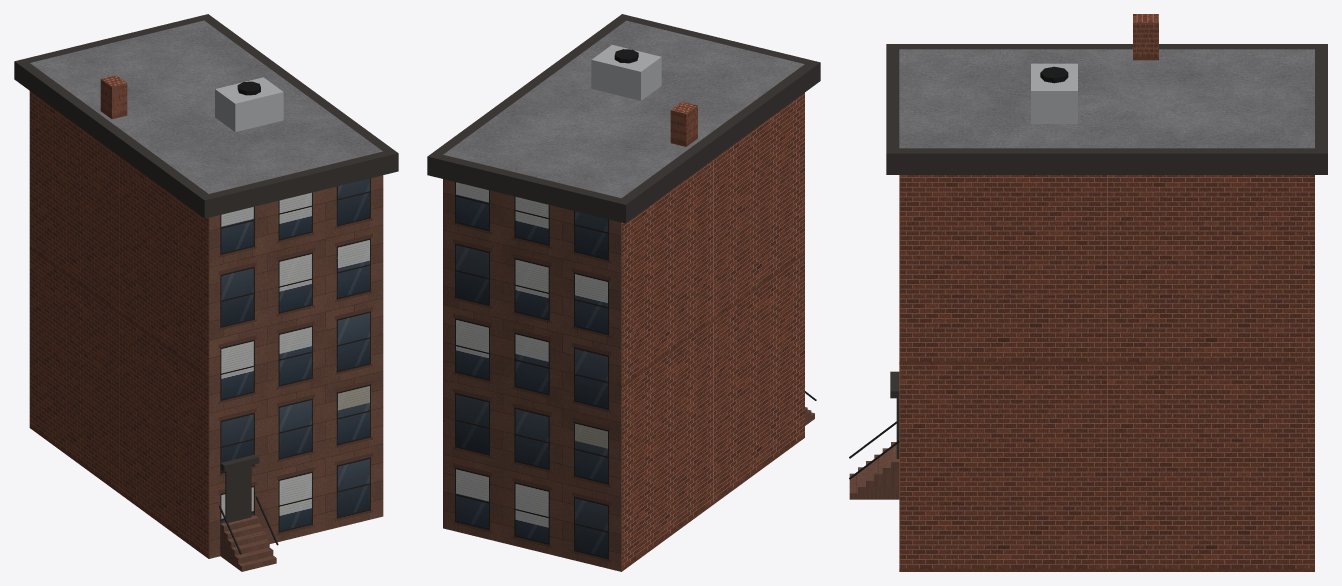
File: 005_brownstone_wide.glb
3 renders of one model, left to right at view 1: azimuth 30°, elevation 25°; view 2: azimuth 150°, elevation 25°; view 3: azimuth 270°, elevation 25°, orthographic. The views are drawn at different scales.
Parts seen in each view (by area): view 1: 005_brownstone_wide; view 2: 005_brownstone_wide; view 3: 005_brownstone_wide.
Boxes of the visible parts, x1=… form: 005_brownstone_wide: x1=14, y1=14, x2=398, y2=571; 005_brownstone_wide: x1=427, y1=14, x2=820, y2=571; 005_brownstone_wide: x1=849, y1=14, x2=1327, y2=571.
Bounding box in the file's own units: 10 × 19.6 × 18.44.
8 materials, 4 textured.
